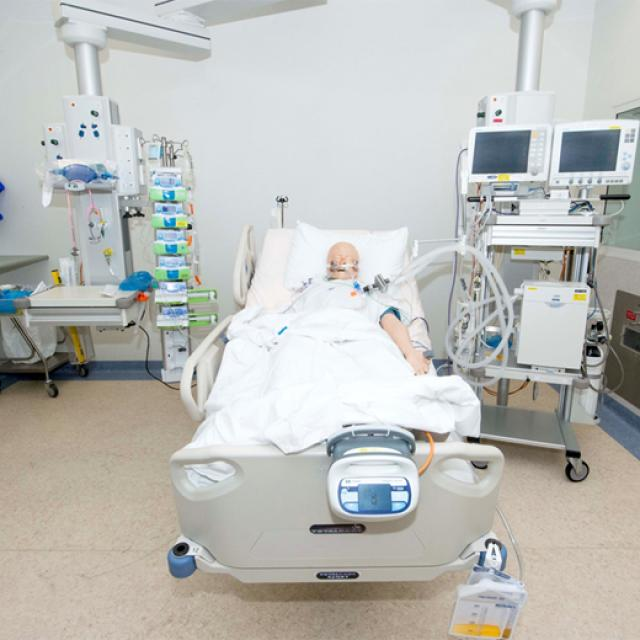cardiac_monitor: (477, 122, 640, 195)
patient_bed: (223, 227, 445, 546)
ventilator: (122, 123, 218, 325)
